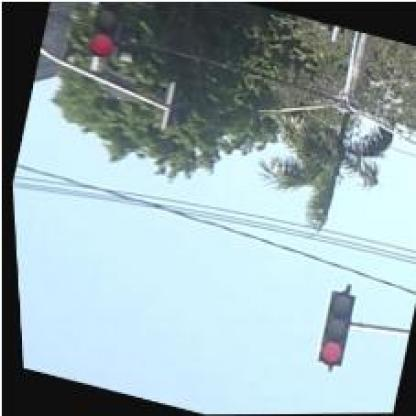red: (308, 291, 354, 368), (86, 1, 127, 58)
